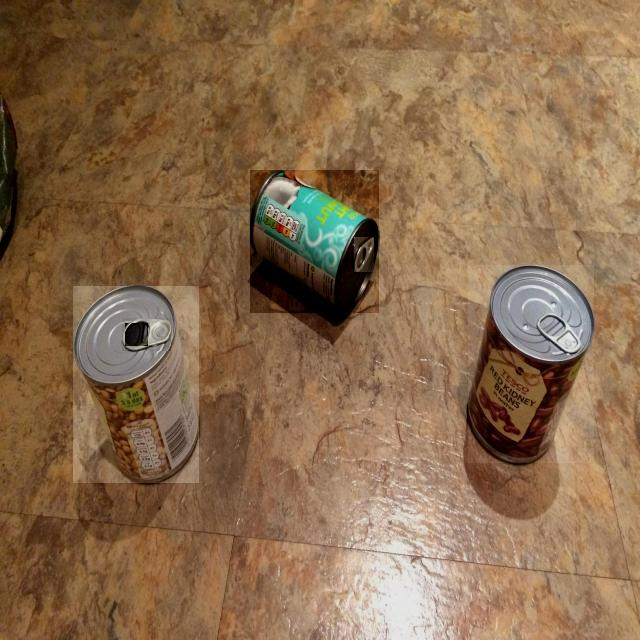Other can: (468, 265, 594, 463), (74, 286, 199, 483), (250, 171, 379, 313)
Pop tab: (537, 313, 581, 354), (123, 318, 171, 351), (354, 237, 374, 272), (126, 323, 148, 346), (540, 317, 565, 336), (357, 248, 365, 268)
